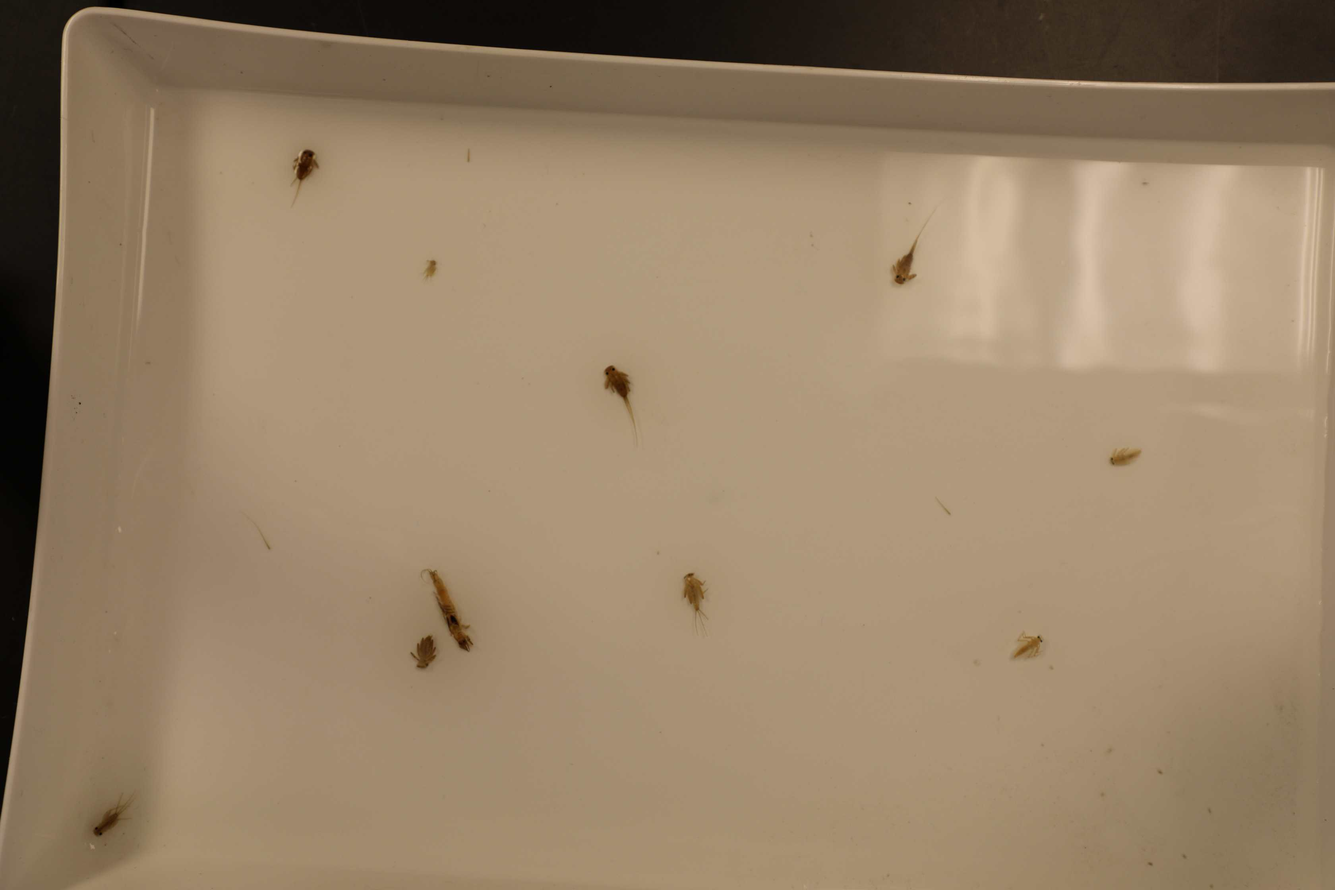Mayfly: (419, 566, 479, 647), (885, 210, 935, 294), (601, 362, 644, 446), (674, 566, 717, 636), (86, 791, 135, 837), (286, 145, 320, 210), (1009, 619, 1053, 665), (1100, 441, 1144, 472), (406, 632, 439, 670), (419, 259, 443, 282)
